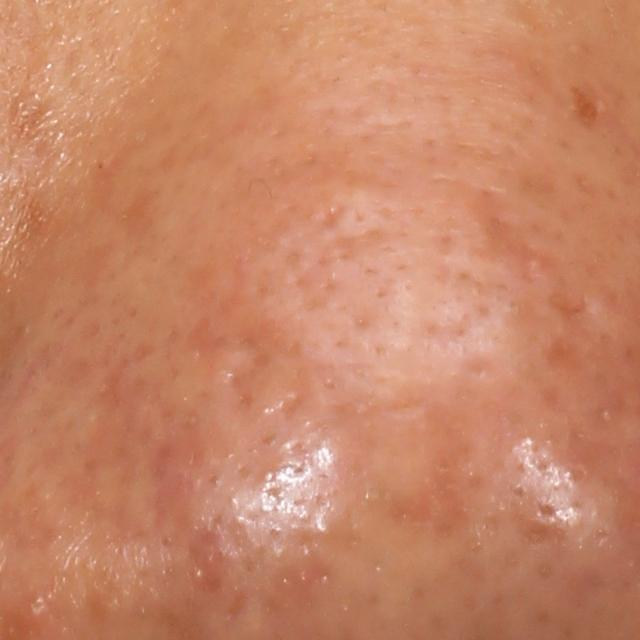atrophic_scar: (70, 373, 219, 546), (181, 301, 310, 417), (469, 197, 561, 291), (312, 225, 403, 267)
